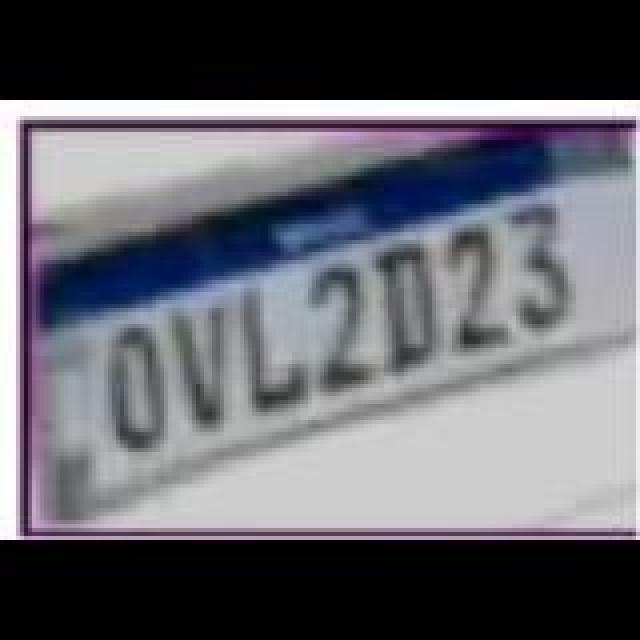2: (310, 266, 378, 398), (442, 228, 510, 356)
3: (510, 202, 578, 334)
D: (374, 246, 442, 378)
L: (242, 288, 310, 416)
O: (106, 328, 174, 456)
V: (172, 306, 236, 438)
